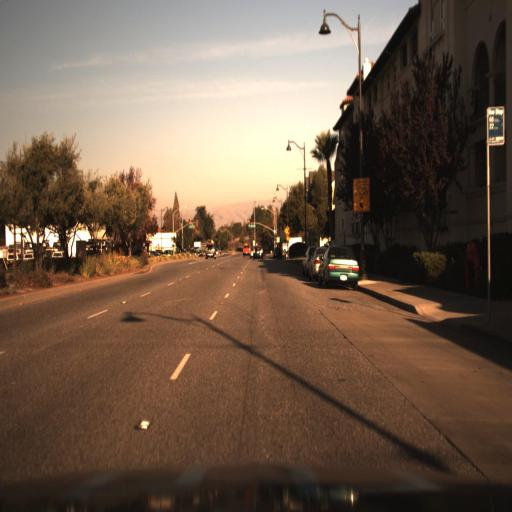car: (316, 242, 358, 288), (300, 245, 313, 284), (202, 236, 218, 266), (252, 240, 267, 263)
